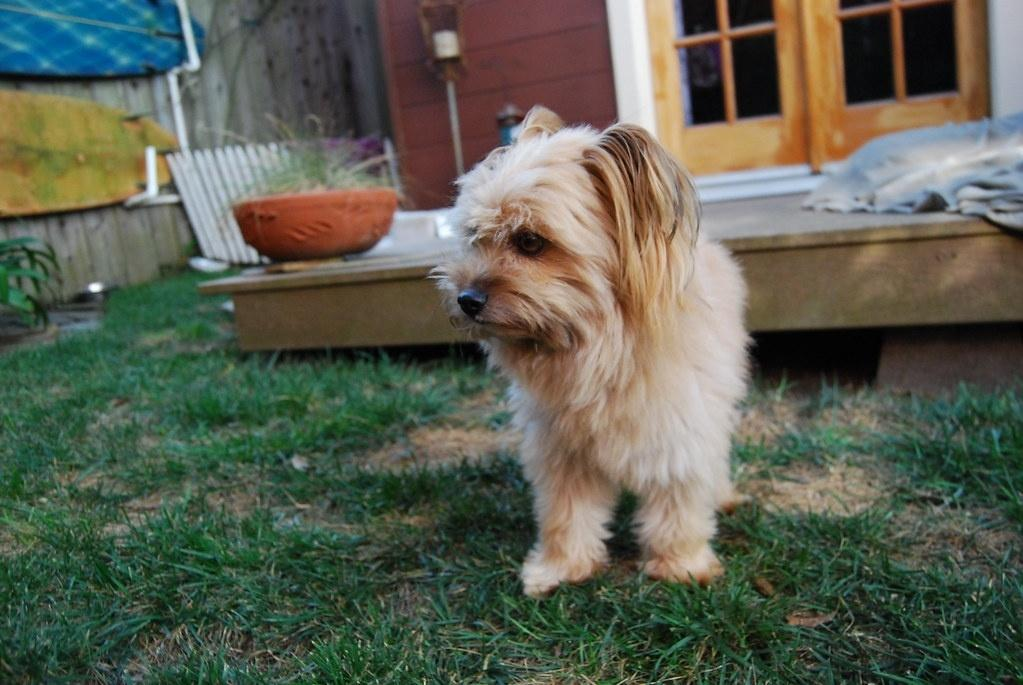dog: (435, 107, 747, 594)
